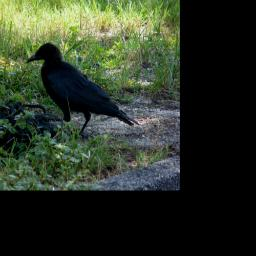Crow: (26, 42, 140, 140)
